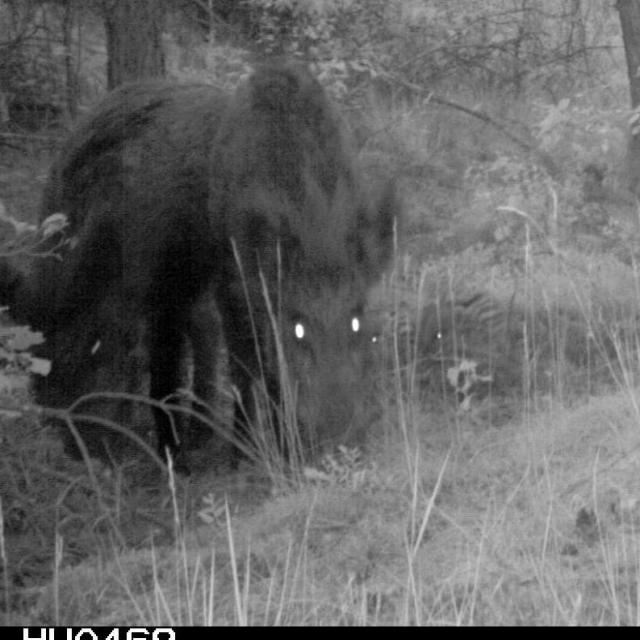pig: (194, 52, 430, 490), (2, 52, 232, 482)
